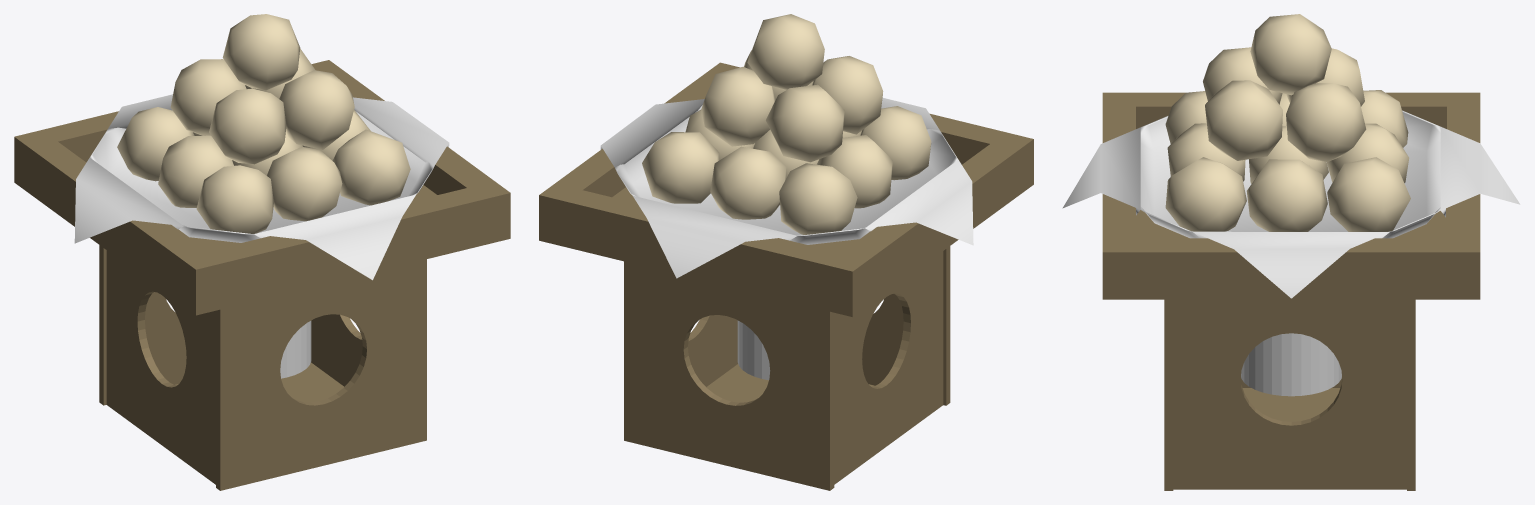
The model's file is moti.fbx.
3 views of the same model, side by side, from view 1: azimuth 30°, elevation 25°; view 2: azimuth 150°, elevation 25°; view 3: azimuth 270°, elevation 25° (orthographic). The views are drawn at different scales.
Parts seen in each view (by area): view 1: 平面.006, 平面.008, 球, 平面.009, 平面.003, 球.001, 球.002, 平面.007, 平面.004, 平面.005, 円柱; view 2: 平面.007, 平面.008, 球, 平面.009, 平面.003, 球.001, 球.002, 平面.006, 平面.004, 平面.005, 円柱; view 3: 平面.004, 平面.008, 球, 平面.009, 球.001, 球.002, 円柱, 平面.005, 平面.006, 平面.007.
Boxes of the visible parts, box(x1,y1,x2,y2) form: 平面.006: box(216, 259, 426, 490); 平面.008: box(14, 60, 510, 315); 球: box(117, 107, 410, 233); 平面.009: box(74, 94, 449, 280); 平面.003: box(106, 250, 215, 484); 球.001: box(170, 48, 354, 164); 球.002: box(222, 14, 300, 90); 平面.007: box(99, 245, 186, 405); 平面.004: box(311, 314, 362, 386); 平面.005: box(175, 362, 343, 402); 円柱: box(280, 321, 311, 378); 平面.007: box(624, 261, 834, 490); 平面.008: box(539, 62, 1033, 317); 球: box(642, 106, 931, 234); 平面.009: box(600, 98, 973, 278); 平面.003: box(834, 251, 943, 484); 球.001: box(701, 50, 883, 162); 球.002: box(747, 14, 824, 89); 平面.006: box(862, 246, 950, 405); 平面.004: box(688, 315, 737, 386); 平面.005: box(706, 364, 874, 402); 円柱: box(737, 320, 770, 380); 平面.004: box(1173, 299, 1406, 489); 平面.008: box(1102, 92, 1480, 299); 球: box(1165, 90, 1410, 231); 平面.009: box(1062, 110, 1520, 298); 球.001: box(1203, 47, 1366, 161); 球.002: box(1250, 14, 1331, 95); 円柱: box(1241, 333, 1341, 396); 平面.005: box(1242, 388, 1340, 421); 平面.006: box(1164, 299, 1173, 490); 平面.007: box(1407, 299, 1415, 490).
Size of the model in its own units: 144 by 150 by 147.
